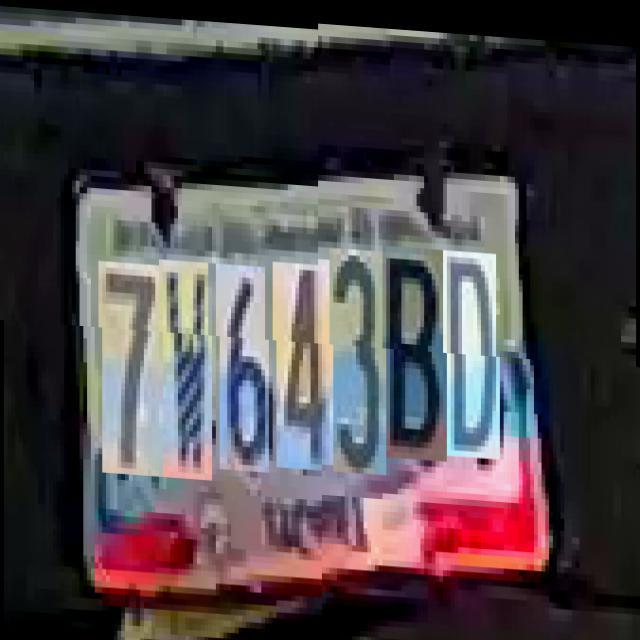3: (334, 248, 386, 476)
4: (276, 258, 334, 467)
6: (220, 260, 269, 468)
7: (102, 259, 163, 474)
B: (386, 246, 447, 461)
D: (447, 249, 500, 458)
W: (163, 257, 212, 477)
